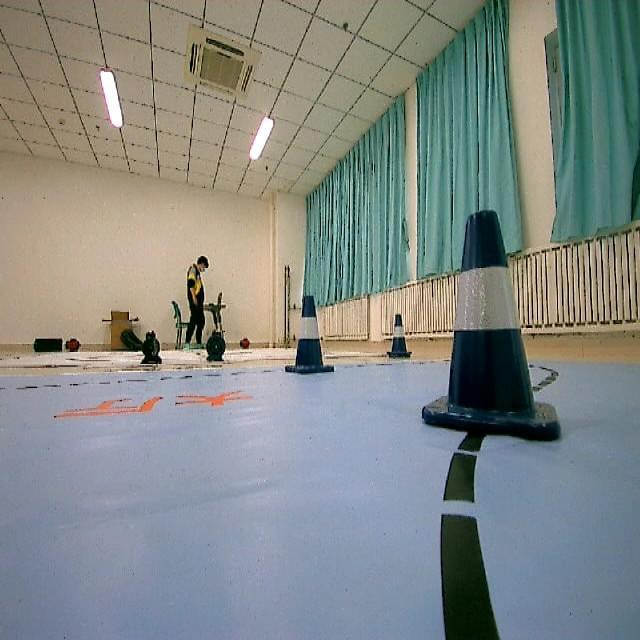obstacle: (417, 198, 565, 454), (274, 293, 344, 378), (386, 310, 412, 360)
